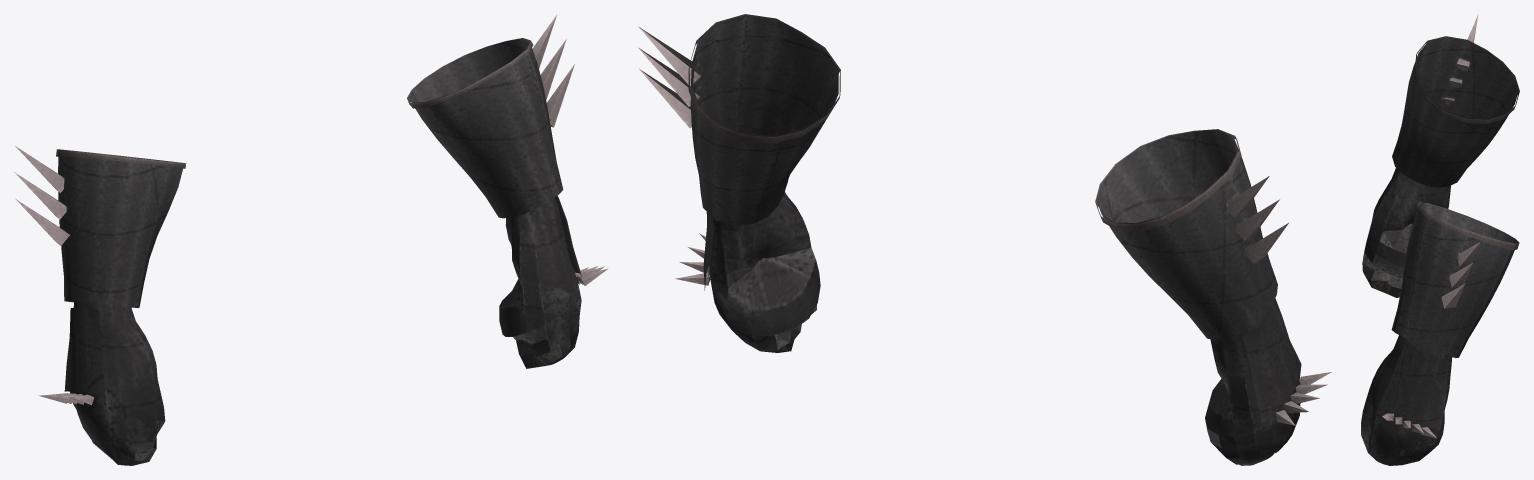
Rendered from Luvas_de_Placas_nivel100.glb.
3 views of the same model, side by side, from view 1: azimuth 30°, elevation 25°; view 2: azimuth 150°, elevation 25°; view 3: azimuth 270°, elevation 25° (orthographic). The views are drawn at different scales.
Parts seen in each view (by area): view 1: luvas_de_placas_nivel100; view 2: luvas_de_placas_nivel100; view 3: luvas_de_placas_nivel100.
Boxes of the visible parts, left/top/right/bottom form: luvas_de_placas_nivel100: left=14, top=15, right=608, bottom=465; luvas_de_placas_nivel100: left=638, top=14, right=1331, bottom=465; luvas_de_placas_nivel100: left=1361, top=14, right=1519, bottom=465.
Size of the model in its own units: 0.7555 by 0.3873 by 0.2184.
1 material, 1 textured.
